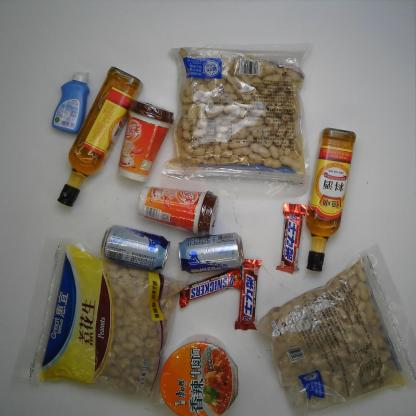Alcohol: (96, 222, 172, 275), (173, 230, 248, 277)
Chocolate: (176, 267, 245, 311), (273, 200, 310, 277), (231, 257, 265, 334)
Dried Food: (9, 233, 195, 412), (249, 238, 415, 415), (159, 38, 316, 203)
Instant Drink: (116, 96, 176, 186), (134, 183, 221, 238)
Instant Noodles: (157, 330, 241, 415)
Personal Hygiene: (47, 68, 95, 137)
Seasoner: (54, 62, 146, 210), (300, 124, 360, 274)
